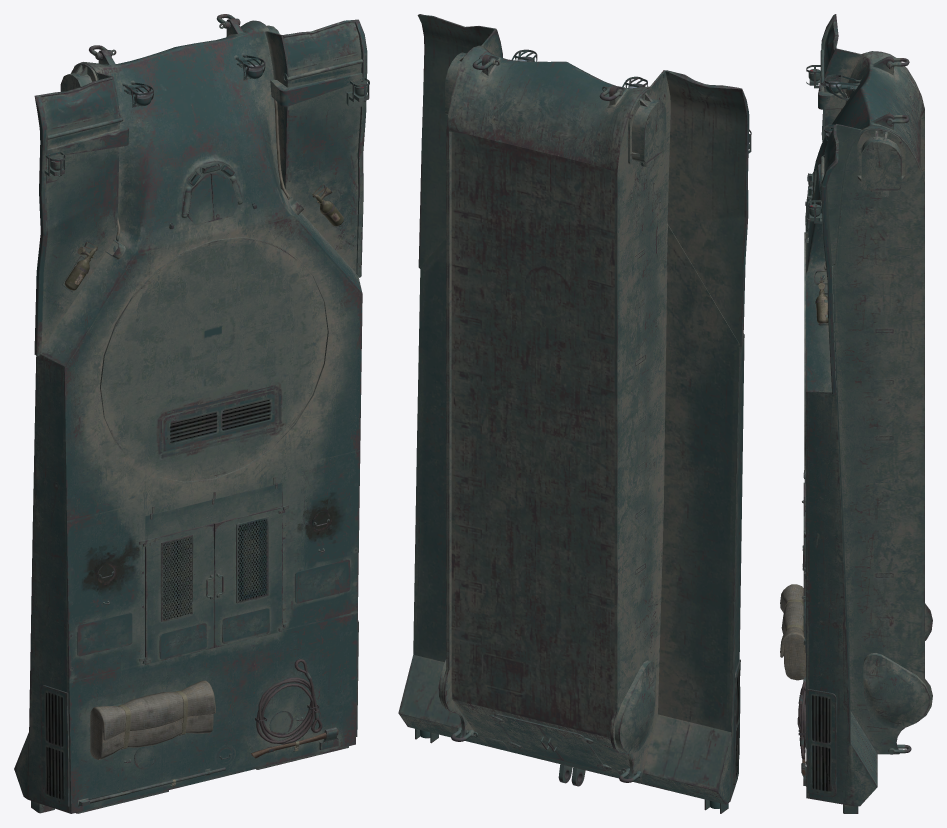
The model's file is Hull.glb.
3 views of the same model, side by side, from view 1: azimuth 30°, elevation 25°; view 2: azimuth 150°, elevation 25°; view 3: azimuth 270°, elevation 25° (orthographic). The views are drawn at different scales.
Parts seen in each view (by area): view 1: set_0_group_0; view 2: set_0_group_0; view 3: set_0_group_0.
Boxes of the visible parts, bbox=[...] form: set_0_group_0: bbox=[14, 14, 369, 813]; set_0_group_0: bbox=[398, 14, 751, 813]; set_0_group_0: bbox=[780, 14, 932, 813].
Bounding box in the file's own units: 3.45 × 7.42 × 1.54.
Materials: 1 (1 with a texture image).
